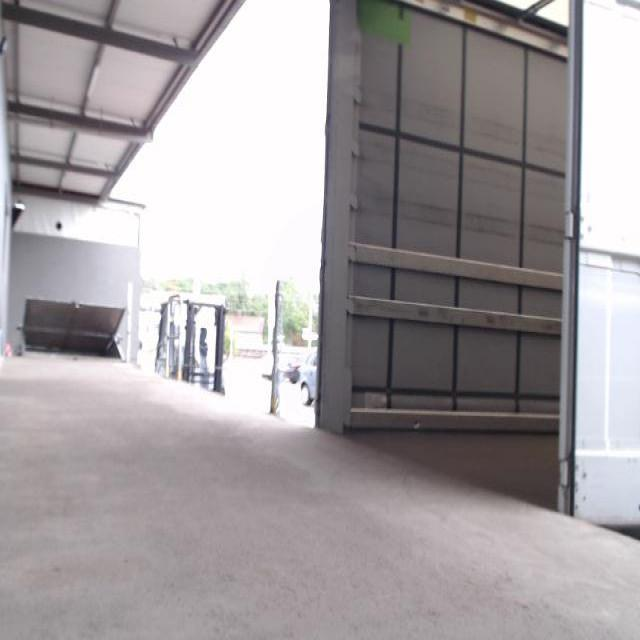forklift: (155, 299, 226, 392)
